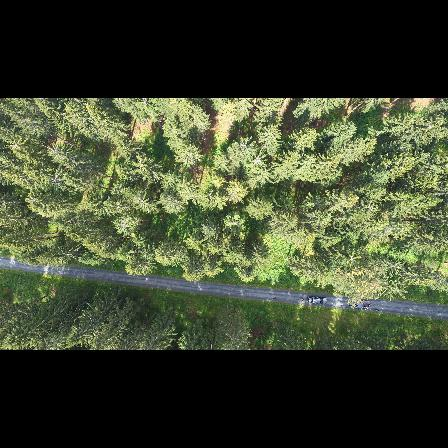Sick: (47, 170, 66, 191), (22, 189, 40, 208), (8, 135, 25, 154)
